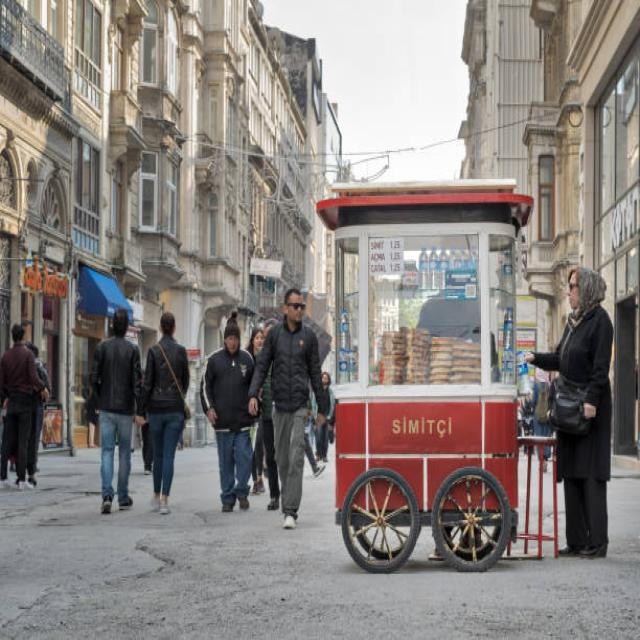Emperan: (310, 172, 562, 580)
